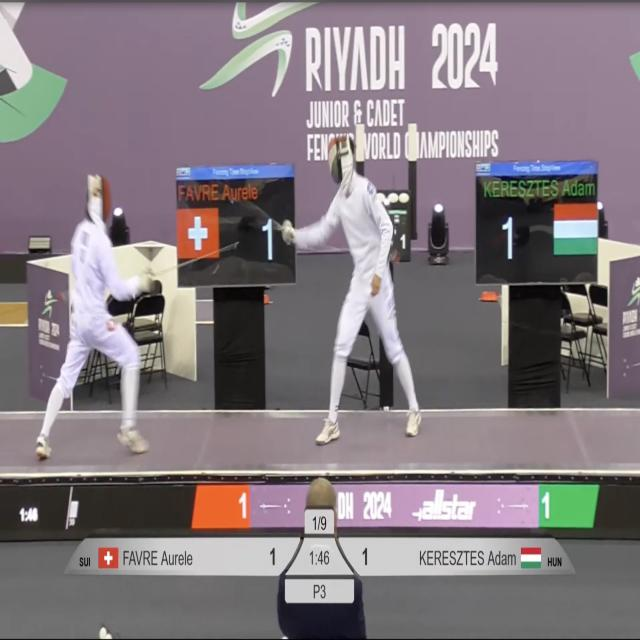fencer: (283, 131, 425, 454), (34, 166, 153, 465)
overlayLeft: (63, 533, 235, 576)
overlayRight: (389, 538, 577, 573)
scoreLeft: (241, 534, 303, 575)
scoreRight: (332, 538, 382, 575)
